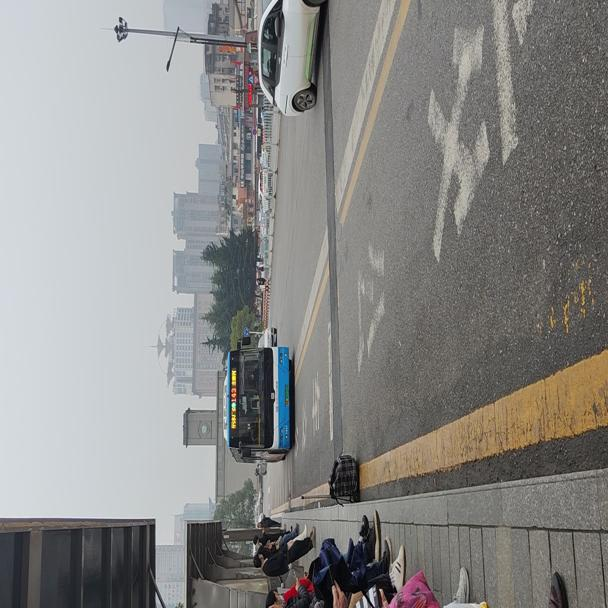bus: (221, 344, 289, 460)
screen: (226, 382, 239, 400)
